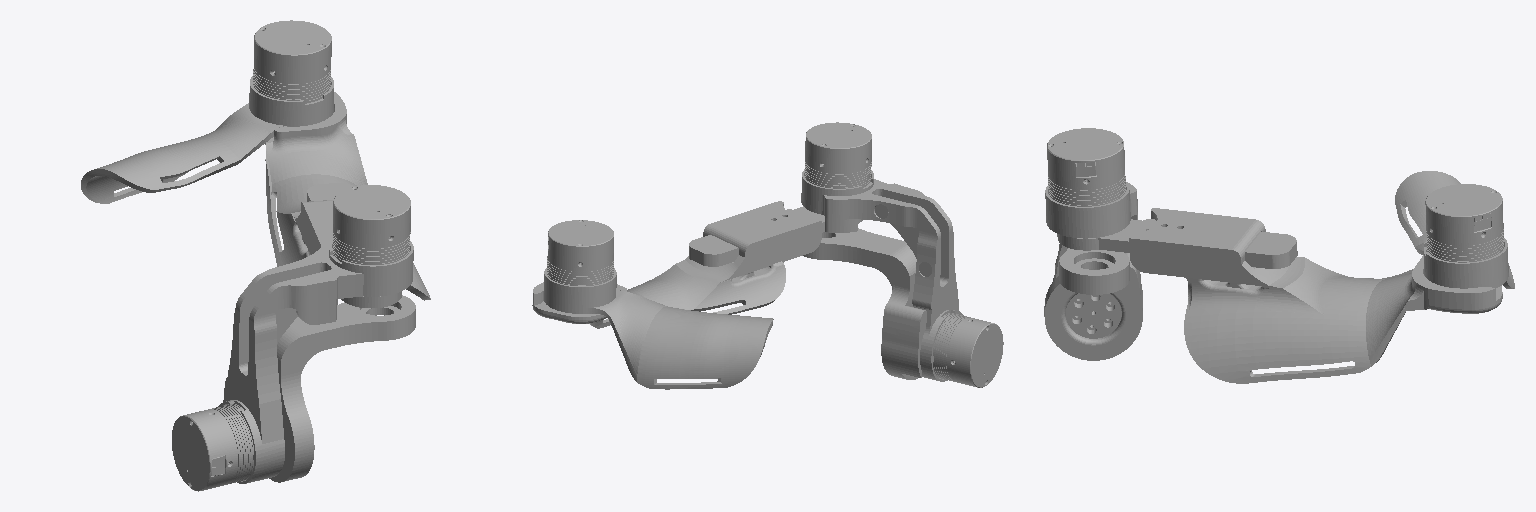
The robot description file, URDF, robot "exo":
<?xml version="1.0" ?>
<!-- =================================================================================== -->
<!-- |    This document was autogenerated by xacro from src/exo_description/urdf/exo.xacro | -->
<!-- |    EDITING THIS FILE BY HAND IS NOT RECOMMENDED                                 | -->
<!-- =================================================================================== -->
<robot name="exo">
  <material name="silver">
    <color rgba="0.700 0.700 0.700 1.000"/>
  </material>
  <material name="black">
    <color rgba="0.200 0.200 0.200 1.000"/>
  </material>
  <link name="world"/>
  <joint name="world_fixed" type="fixed">
    <parent link="world"/>
    <child link="base_link"/>
    <origin rpy="0 0 0" xyz="0 0 0.6"/>
  </joint>
  <!-- All modes mount each arm under a shared base_link with prefix-aware mount joints. -->
  <link name="base_link">
    <inertial>
      <origin rpy="0 0 0" xyz="0 0 0"/>
      <mass value="0.001"/>
      <inertia ixx="1e-06" ixy="0" ixz="0" iyy="1e-06" iyz="0" izz="1e-06"/>
    </inertial>
  </link>
  <joint name="right_mount_joint" type="fixed">
    <origin rpy="0 0 0" xyz="0 -0.2 0"/>
    <parent link="base_link"/>
    <child link="right_base_link"/>
  </joint>
  <link name="right_base_link">
    <inertial>
      <origin rpy="0 0 0" xyz="-0.06508828909321891 0.0016392932839860918 -0.029106794021422928"/>
      <mass value="0.071076"/>
      <inertia ixx="0.000208" ixy="8e-06" ixz="-0.000104" iyy="0.00032" iyz="3e-06" izz="0.000185"/>
    </inertial>
    <visual>
      <origin rpy="0 0 0" xyz="0 0 0"/>
      <geometry>
        <mesh filename="package://exo_description/meshes/exo_assembly/right/base_link.stl" scale="0.001 0.001 0.001"/>
      </geometry>
      <material name="silver"/>
    </visual>
  </link>
  <link name="right_component_1">
    <inertial>
      <origin rpy="0 0 0" xyz="0.020078156586478324 -0.002520887276899919 0.07676564491860602"/>
      <mass value="0.10340048966459635"/>
      <inertia ixx="0.000203" ixy="-4e-06" ixz="-0.0001" iyy="0.000303" iyz="1e-06" izz="0.000152"/>
    </inertial>
    <visual>
      <origin rpy="0 0 0" xyz="0.097353 0.00061 0.063136"/>
      <geometry>
        <mesh filename="package://exo_description/meshes/exo_assembly/right/Right_Component_1_1.stl" scale="0.001 0.001 0.001"/>
      </geometry>
      <material name="silver"/>
    </visual>
  </link>
  <link name="right_motor_1">
    <inertial>
      <origin rpy="0 0 0" xyz="-0.028657146735079228 -0.0008124469950160578 5.2337020642223564e-05"/>
      <mass value="0.33655768070512676"/>
      <inertia ixx="0.000158" ixy="-7e-06" ixz="0.0" iyy="0.000206" iyz="-0.0" izz="0.000208"/>
    </inertial>
    <visual>
      <origin rpy="0 0 0" xyz="0.094353 0.00061 0.063136"/>
      <geometry>
        <mesh filename="package://exo_description/meshes/exo_assembly/right/Right_Motor_1_1.stl" scale="0.001 0.001 0.001"/>
      </geometry>
      <material name="silver"/>
    </visual>
  </link>
  <link name="right_motor_2">
    <inertial>
      <origin rpy="0 0 0" xyz="0.0008094200168279157 -0.0008145820388575867 0.02564395698733552"/>
      <mass value="0.33655768070512676"/>
      <inertia ixx="0.000206" ixy="0.0" ixz="-7e-06" iyy="0.000208" iyz="1e-06" izz="0.000158"/>
    </inertial>
    <visual>
      <origin rpy="0 0 0" xyz="0.010353 0.004345 -0.043799"/>
      <geometry>
        <mesh filename="package://exo_description/meshes/exo_assembly/right/Right_Motor_2_1.stl" scale="0.001 0.001 0.001"/>
      </geometry>
      <material name="silver"/>
    </visual>
  </link>
  <link name="right_component_2">
    <inertial>
      <origin rpy="0 0 0" xyz="0.02170967506266145 0.06340564193577251 -0.004302798150324916"/>
      <mass value="0.06901401423488361"/>
      <inertia ixx="0.000157" ixy="-5.1e-05" ixz="-2e-06" iyy="2.6e-05" iyz="-5e-06" izz="0.000182"/>
    </inertial>
    <visual>
      <origin rpy="0 0 0" xyz="0.010353 0.00424 -0.040801"/>
      <geometry>
        <mesh filename="package://exo_description/meshes/exo_assembly/right/Right_Component_2_1.stl" scale="0.001 0.001 0.001"/>
      </geometry>
      <material name="silver"/>
    </visual>
  </link>
  <link name="right_component_3">
    <inertial>
      <origin rpy="0 0 0" xyz="0.0362007475571462 0.08488733536574525 -0.02097339196773956"/>
      <mass value="0.2572924347231441"/>
      <inertia ixx="0.001177" ixy="-0.0004" ixz="3.6e-05" iyy="0.00037" iyz="-2.1e-05" izz="0.001416"/>
    </inertial>
    <visual>
      <origin rpy="0 0 0" xyz="-0.008346 -0.050211 -0.041702"/>
      <geometry>
        <mesh filename="package://exo_description/meshes/exo_assembly/right/Right_Component_3_1.stl" scale="0.001 0.001 0.001"/>
      </geometry>
      <material name="silver"/>
    </visual>
  </link>
  <link name="right_motor_3">
    <inertial>
      <origin rpy="0 0 0" xyz="0.00071319645679499 -0.0004566132738064721 0.028656360017304303"/>
      <mass value="0.33655768070512676"/>
      <inertia ixx="0.000207" ixy="-0.0" ixz="-6e-06" iyy="0.000208" iyz="-2e-06" izz="0.000158"/>
    </inertial>
    <visual>
      <origin rpy="0 0 0" xyz="-0.080242 -0.26481 -0.039283"/>
      <geometry>
        <mesh filename="package://exo_description/meshes/exo_assembly/right/Right_Motor_3_1.stl" scale="0.001 0.001 0.001"/>
      </geometry>
      <material name="silver"/>
    </visual>
  </link>
  <link name="right_component_4">
    <inertial>
      <origin rpy="0 0 0" xyz="-0.08441969431975782 -0.002715032580566934 -0.008979759026676165"/>
      <mass value="0.07092471532503089"/>
      <inertia ixx="4.2e-05" ixy="-1.2e-05" ixz="-2.2e-05" iyy="0.000201" iyz="1e-05" izz="0.000218"/>
    </inertial>
    <visual>
      <origin rpy="0 0 0" xyz="-0.080247 -0.264713 -0.042282"/>
      <geometry>
        <mesh filename="package://exo_description/meshes/exo_assembly/right/Right_Component_4_1.stl" scale="0.001 0.001 0.001"/>
      </geometry>
      <material name="silver"/>
    </visual>
  </link>
  <joint name="right_fixed_1" type="fixed">
    <origin rpy="0 0 0" xyz="-0.003 0.0 0.0"/>
    <parent link="right_motor_1"/>
    <child link="right_component_1"/>
  </joint>
  <joint name="right_revolute_1" type="revolute">
    <origin rpy="0 0 0" xyz="-0.094353 -0.00061 -0.063136"/>
    <parent link="right_base_link"/>
    <child link="right_motor_1"/>
    <axis xyz="-1.0 -0.0 0.0"/>
    <limit effort="20" lower="-3.14" upper="0" velocity="11"/>
  </joint>
  <joint name="right_fixed_2" type="fixed">
    <origin rpy="0 0 0" xyz="0.087 -0.003735 0.106935"/>
    <parent link="right_component_1"/>
    <child link="right_motor_2"/>
  </joint>
  <joint name="right_revolute_2" type="revolute">
    <origin rpy="0 0 0" xyz="0.0 0.000105 -0.002998"/>
    <parent link="right_motor_2"/>
    <child link="right_component_2"/>
    <axis xyz="0.0 -0.034899 0.999391"/>
    <limit effort="20" lower="-3.3" upper="0" velocity="11"/>
  </joint>
  <joint name="right_fixed_3" type="fixed">
    <origin rpy="0 0 0" xyz="0.018699 0.054451 0.000901"/>
    <parent link="right_component_2"/>
    <child link="right_component_3"/>
  </joint>
  <joint name="right_revolute_3" type="revolute">
    <origin rpy="0 0 0" xyz="0.071896 0.214599 -0.002419"/>
    <parent link="right_component_3"/>
    <child link="right_motor_3"/>
    <axis xyz="0.001695 -0.032293 0.999477"/>
    <limit effort="20" lower="-2.08" upper="0" velocity="11"/>
  </joint>
  <joint name="right_fixed_4" type="fixed">
    <origin rpy="0 0 0" xyz="5e-06 -9.7e-05 0.002999"/>
    <parent link="right_motor_3"/>
    <child link="right_component_4"/>
  </joint>
  <ros2_control name="exo_system" type="system">
    <hardware>
      <plugin>exo_hardware/teensy_plugin</plugin>
      <param name="effort_stiction_comp_enabled">false</param>
      <param name="effort_stiction_tau_values">0.65,0.86,1.26</param>
      <param name="effort_stiction_slope_values">1, 1, 1</param>
    </hardware>
    <joint name="right_revolute_1">
      <command_interface name="effort"/>
      <state_interface name="position">
        <param name="initial_value">-1.53</param>
      </state_interface>
      <state_interface name="velocity"/>
      <state_interface name="effort"/>
    </joint>
    <joint name="right_revolute_2">
      <command_interface name="effort"/>
      <state_interface name="position">
        <param name="initial_value">-2.82</param>
      </state_interface>
      <state_interface name="velocity"/>
      <state_interface name="effort"/>
    </joint>
    <joint name="right_revolute_3">
      <command_interface name="effort"/>
      <state_interface name="position">
        <param name="initial_value">-2.00</param>
      </state_interface>
      <state_interface name="velocity"/>
      <state_interface name="effort"/>
    </joint>
  </ros2_control>
</robot>

--- What the picture shows (computed from the rendered views, not written in the file) ---
3 views of the same robot in one strip: view 1: azimuth 30°, elevation 25°; view 2: azimuth 150°, elevation 25°; view 3: azimuth 270°, elevation 25° (orthographic).
Model exo with 10 links and 9 joints (3 revolute, 6 fixed), rooted at world, posed every joint at zero.
Visible links, largest first — view 1: right_component_1, right_component_3, right_component_4, right_base_link, right_motor_3, right_motor_1, right_motor_2, right_component_2; view 2: right_component_4, right_component_3, right_component_1, right_base_link, right_motor_1, right_motor_2, right_motor_3, right_component_2; view 3: right_component_3, right_base_link, right_motor_2, right_motor_3, right_component_4, right_component_1, right_component_2.
Boxes of the visible links, box(x1,y1,x2,y2) form: right_component_1: box(218, 239, 413, 483); right_component_3: box(265, 92, 430, 300); right_component_4: box(81, 76, 333, 203); right_base_link: box(223, 295, 415, 482); right_motor_3: box(253, 20, 331, 103); right_motor_1: box(172, 403, 253, 491); right_motor_2: box(332, 185, 410, 264); right_component_2: box(307, 183, 401, 308); right_component_4: box(544, 268, 773, 389); right_component_3: box(532, 201, 821, 328); right_component_1: box(801, 169, 963, 381); right_base_link: box(803, 228, 926, 379); right_motor_1: box(933, 313, 1003, 387); right_motor_2: box(805, 122, 871, 188); right_motor_3: box(547, 220, 613, 285); right_component_2: box(689, 206, 862, 266); right_component_3: box(1129, 208, 1502, 383); right_base_link: box(1044, 248, 1142, 360); right_motor_2: box(1047, 128, 1125, 206); right_motor_3: box(1425, 184, 1503, 262); right_component_4: box(1395, 171, 1514, 288); right_component_1: box(1045, 182, 1137, 280); right_component_2: box(1057, 219, 1297, 268).
Size in the robot's own frame: 0.2748 by 0.3351 by 0.2008 metres.
8 mesh visuals loaded from 8 distinct referenced files (8 binary STL).
